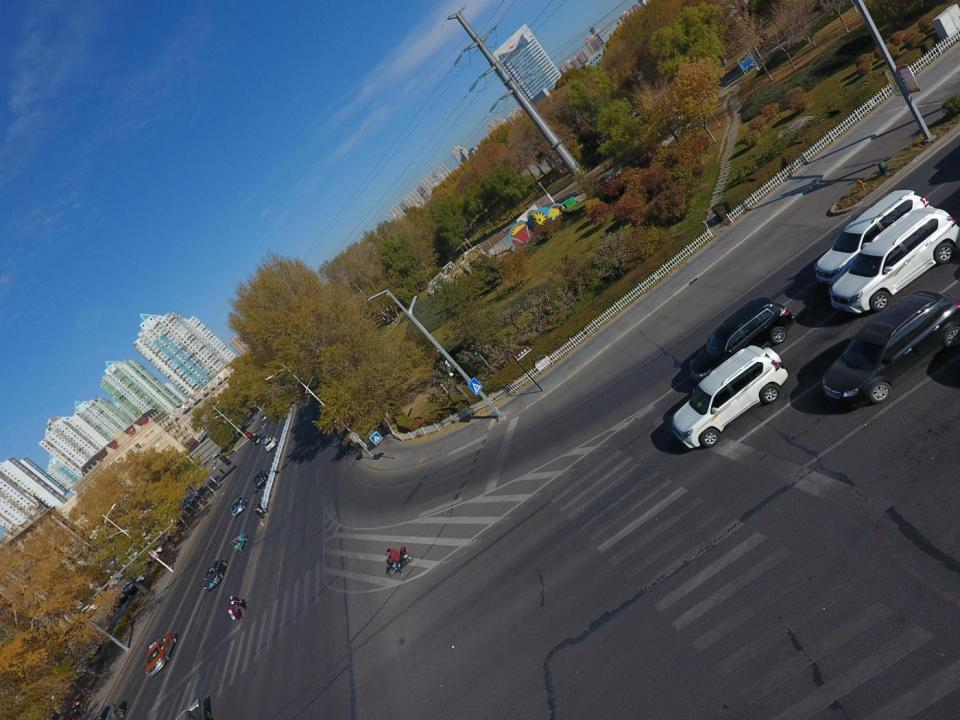car: (822, 290, 960, 406), (829, 205, 960, 314), (673, 345, 789, 449), (813, 190, 931, 284), (690, 297, 793, 386), (146, 631, 176, 677), (202, 558, 227, 593), (110, 586, 137, 612), (62, 661, 90, 686), (74, 642, 102, 664), (231, 495, 248, 518), (152, 527, 175, 543), (128, 572, 146, 588), (146, 545, 164, 560), (121, 580, 140, 594), (254, 469, 267, 488), (174, 501, 190, 516), (265, 436, 278, 453), (182, 492, 199, 505), (252, 433, 264, 446), (261, 432, 272, 445), (212, 447, 223, 459), (260, 412, 266, 423)
